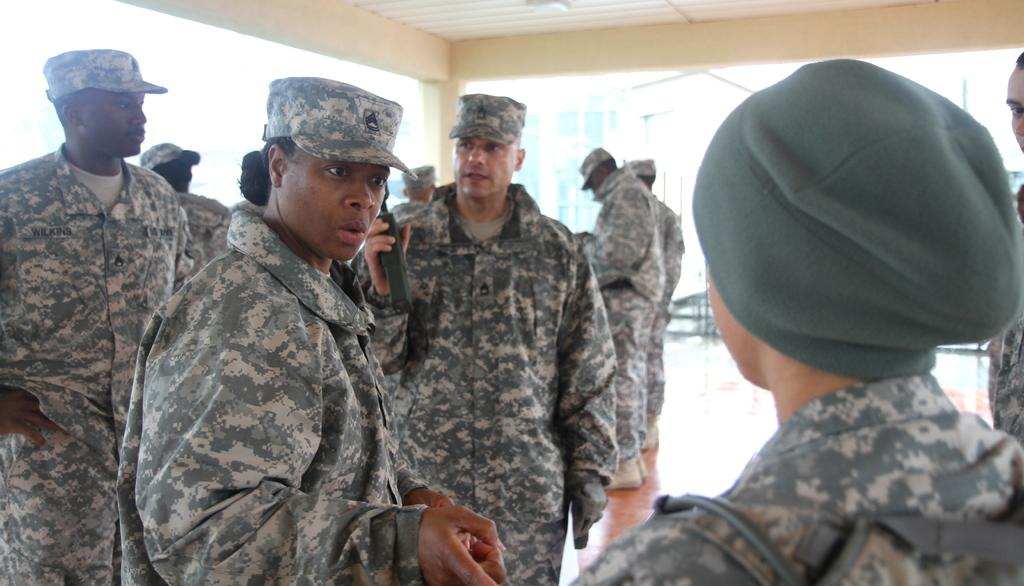Hat: (258, 72, 414, 181), (42, 52, 168, 105), (446, 91, 529, 145), (142, 135, 196, 173), (578, 144, 608, 191), (627, 156, 653, 175)
